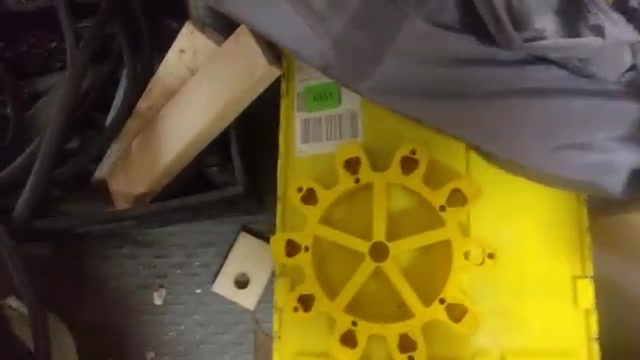gear: (268, 130, 489, 358)
